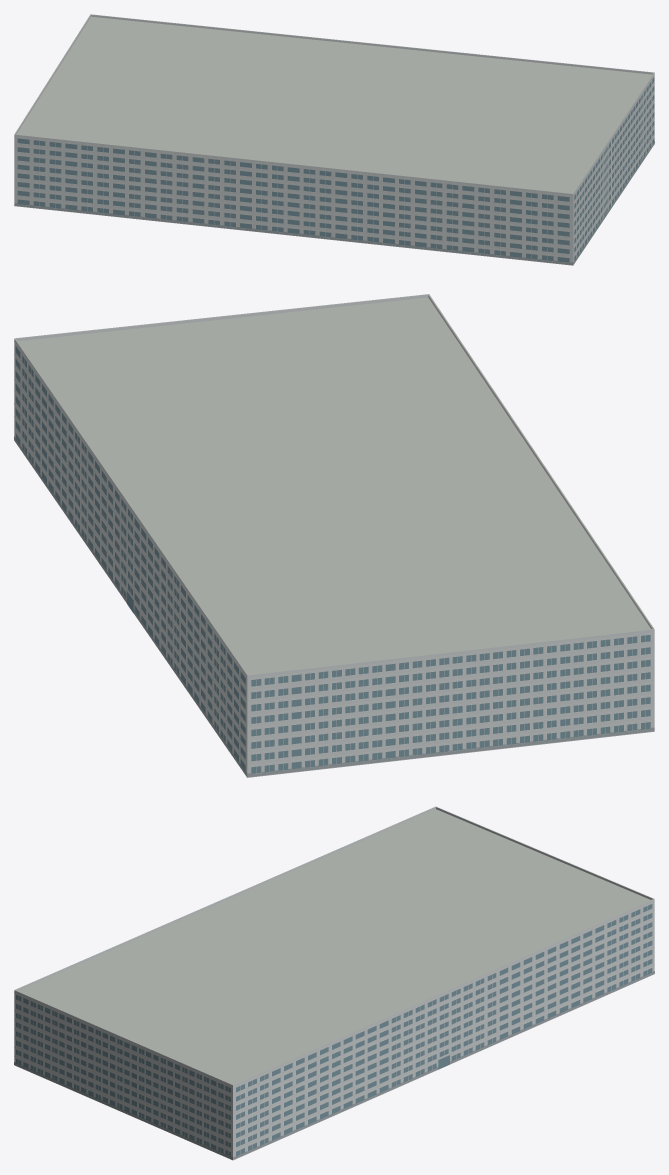
Rendered from civic-f305a2f2-5794-46c9-a2a2-b586d475666b.glb.
The picture shows the model from 3 angles, top to bottom: view 1: azimuth 30°, elevation 25°; view 2: azimuth 150°, elevation 25°; view 3: azimuth 270°, elevation 25°; orthographic projection. The views are drawn at different scales.
Parts seen in each view (by area): view 1: civic-f305a2f2-5794-46c9-a2a2-b586d475666b; view 2: civic-f305a2f2-5794-46c9-a2a2-b586d475666b; view 3: civic-f305a2f2-5794-46c9-a2a2-b586d475666b.
Part boxes in pixels (box(x1,y1,x2,y2)): civic-f305a2f2-5794-46c9-a2a2-b586d475666b: box(14, 14, 654, 265); civic-f305a2f2-5794-46c9-a2a2-b586d475666b: box(14, 294, 654, 777); civic-f305a2f2-5794-46c9-a2a2-b586d475666b: box(14, 806, 654, 1160).
Size of the model in its own units: 194 by 24.4 by 189.
